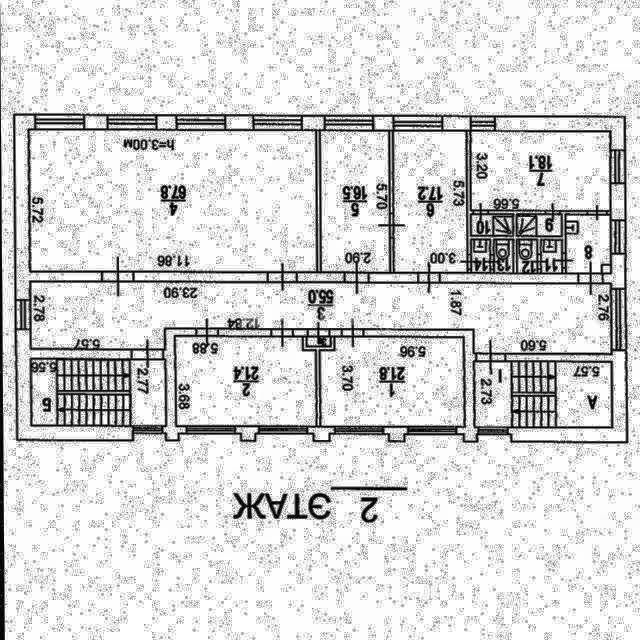room: (30, 282, 610, 354), (29, 132, 315, 272), (318, 337, 465, 427), (174, 337, 316, 427), (471, 132, 609, 211), (394, 131, 467, 273), (320, 131, 390, 273), (30, 360, 165, 427), (474, 362, 611, 427), (566, 215, 610, 273), (516, 215, 562, 236), (471, 216, 512, 235), (541, 240, 561, 273), (494, 240, 513, 274), (517, 240, 536, 274), (471, 240, 490, 273), (306, 337, 330, 347)
